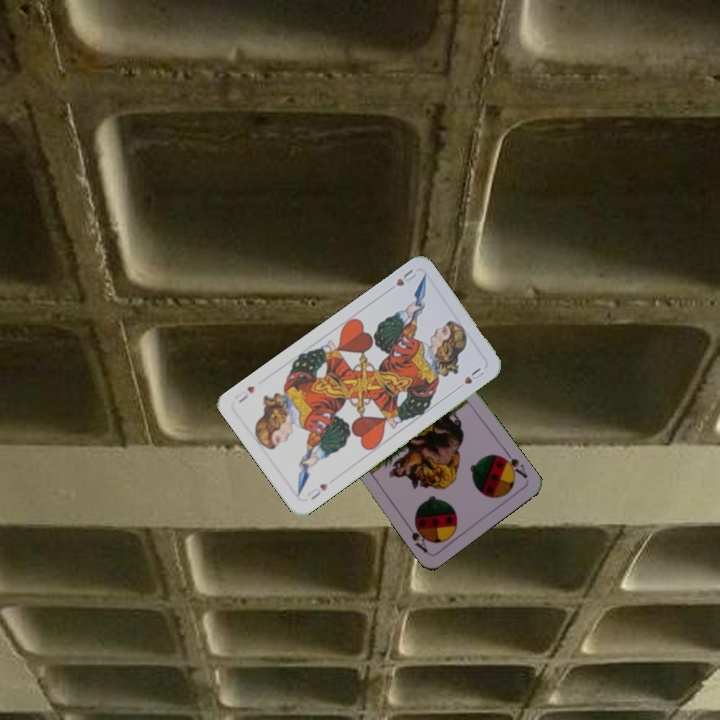HU: (303, 479, 331, 503), (392, 265, 419, 289)
SA: (496, 447, 530, 481)
